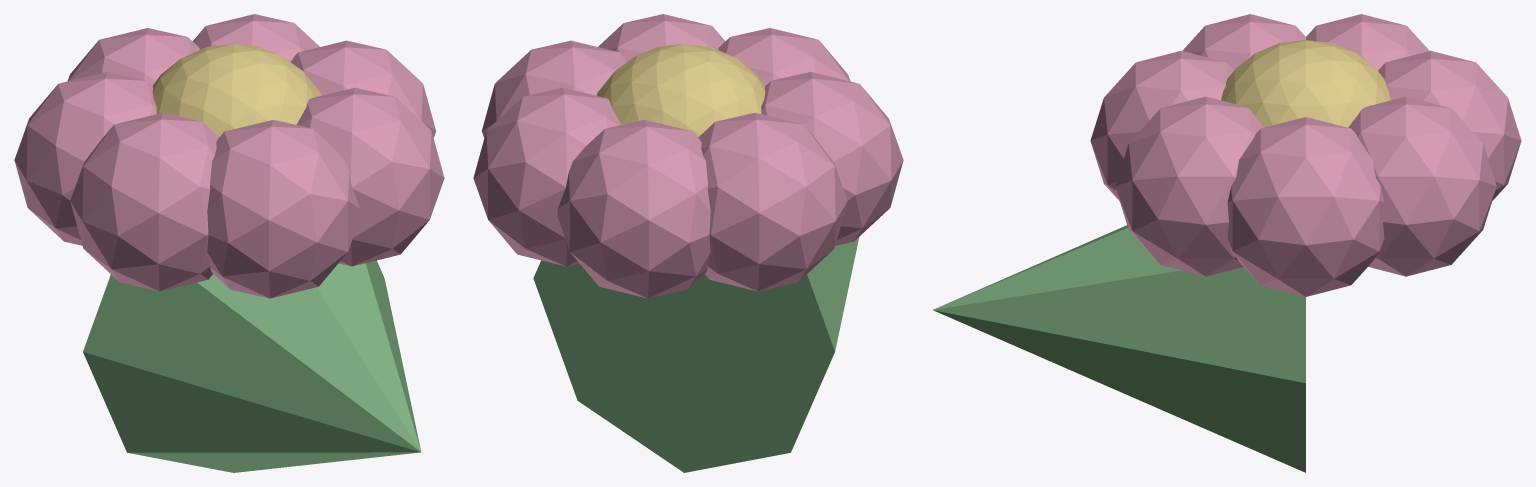
File: blossom_trap.glb
3 renders of one model, left to right at view 1: azimuth 30°, elevation 25°; view 2: azimuth 150°, elevation 25°; view 3: azimuth 270°, elevation 25°, orthographic.
Visible parts, largest first — view 1: stem, petal2, petal3, petal1, petal4, center, petal0, petal5, petal6; view 2: stem, petal5, petal4, petal6, petal3, center, petal0, petal2, petal1; view 3: stem, petal0, petal1, petal6, center, petal2, petal5, petal3, petal4.
Part boxes in pixels (left/top/right/bottom): stem: left=83, top=260, right=421, bottom=472; petal2: left=207, top=120, right=360, bottom=298; petal3: left=70, top=112, right=219, bottom=291; petal1: left=296, top=87, right=444, bottom=266; petal4: left=14, top=72, right=156, bottom=245; center: left=152, top=44, right=321, bottom=137; petal0: left=291, top=40, right=435, bottom=137; petal5: left=67, top=28, right=199, bottom=85; petal6: left=193, top=14, right=319, bottom=61; stem: left=533, top=237, right=859, bottom=472; petal5: left=557, top=120, right=710, bottom=298; petal4: left=698, top=112, right=847, bottom=291; petal6: left=473, top=87, right=621, bottom=266; petal3: left=761, top=72, right=903, bottom=245; center: left=596, top=44, right=765, bottom=137; petal0: left=482, top=40, right=626, bottom=137; petal2: left=718, top=28, right=850, bottom=85; petal1: left=598, top=14, right=724, bottom=61; stem: left=933, top=225, right=1305, bottom=472; petal0: left=1227, top=117, right=1384, bottom=296; petal1: left=1115, top=96, right=1263, bottom=276; petal6: left=1348, top=96, right=1496, bottom=276; center: left=1221, top=40, right=1390, bottom=127; petal2: left=1090, top=50, right=1233, bottom=200; petal5: left=1378, top=50, right=1521, bottom=200; petal3: left=1182, top=14, right=1305, bottom=70; petal4: left=1306, top=14, right=1429, bottom=70.
Size of the model in its own units: 1.59 by 1.73 by 2.21.
